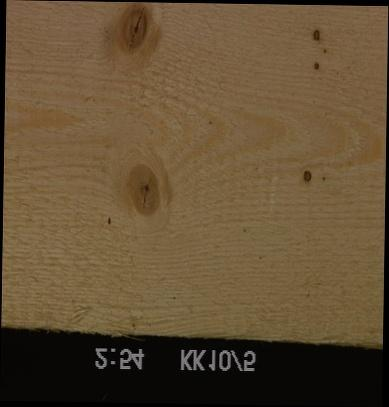dry_knot: (301, 168, 311, 182), (311, 28, 320, 41), (311, 60, 319, 70)
sound_knot: (116, 1, 150, 57), (126, 161, 160, 216)
